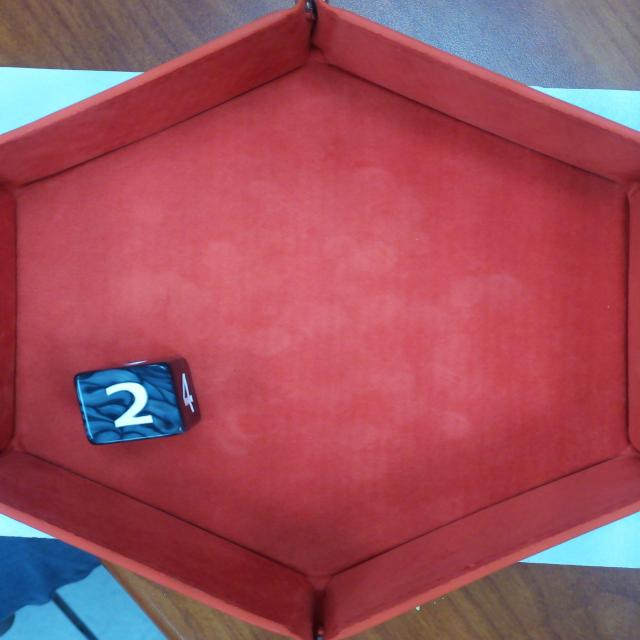dice: (71, 361, 190, 448)
